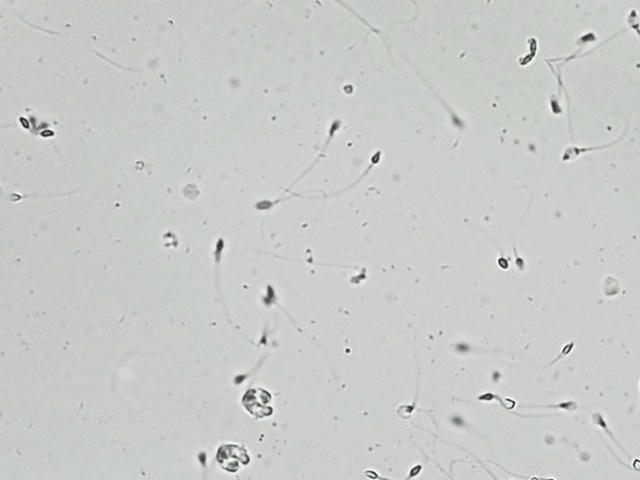sperm: (352, 288, 504, 396), (194, 50, 320, 166), (337, 112, 468, 220), (205, 34, 297, 180), (124, 177, 240, 292), (202, 0, 396, 66), (172, 167, 306, 262), (318, 388, 464, 450), (434, 120, 518, 222), (324, 280, 404, 371), (520, 50, 598, 138), (213, 128, 291, 200), (0, 128, 44, 194), (208, 311, 250, 367), (180, 0, 270, 18), (452, 368, 496, 400), (308, 459, 408, 473), (528, 313, 560, 355), (369, 446, 407, 468), (448, 472, 504, 478), (473, 470, 519, 477), (448, 474, 508, 478)
